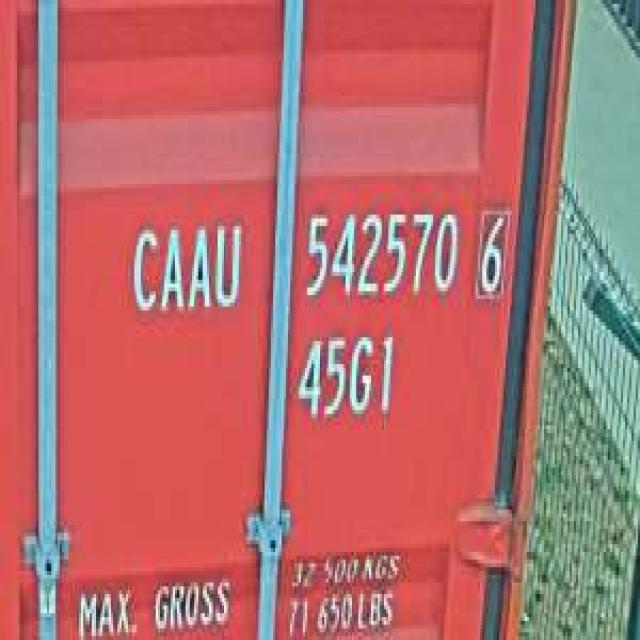dv: (471, 195, 510, 303)
owner: (124, 211, 245, 326)
serial: (296, 196, 461, 306)
size: (292, 322, 397, 425)
